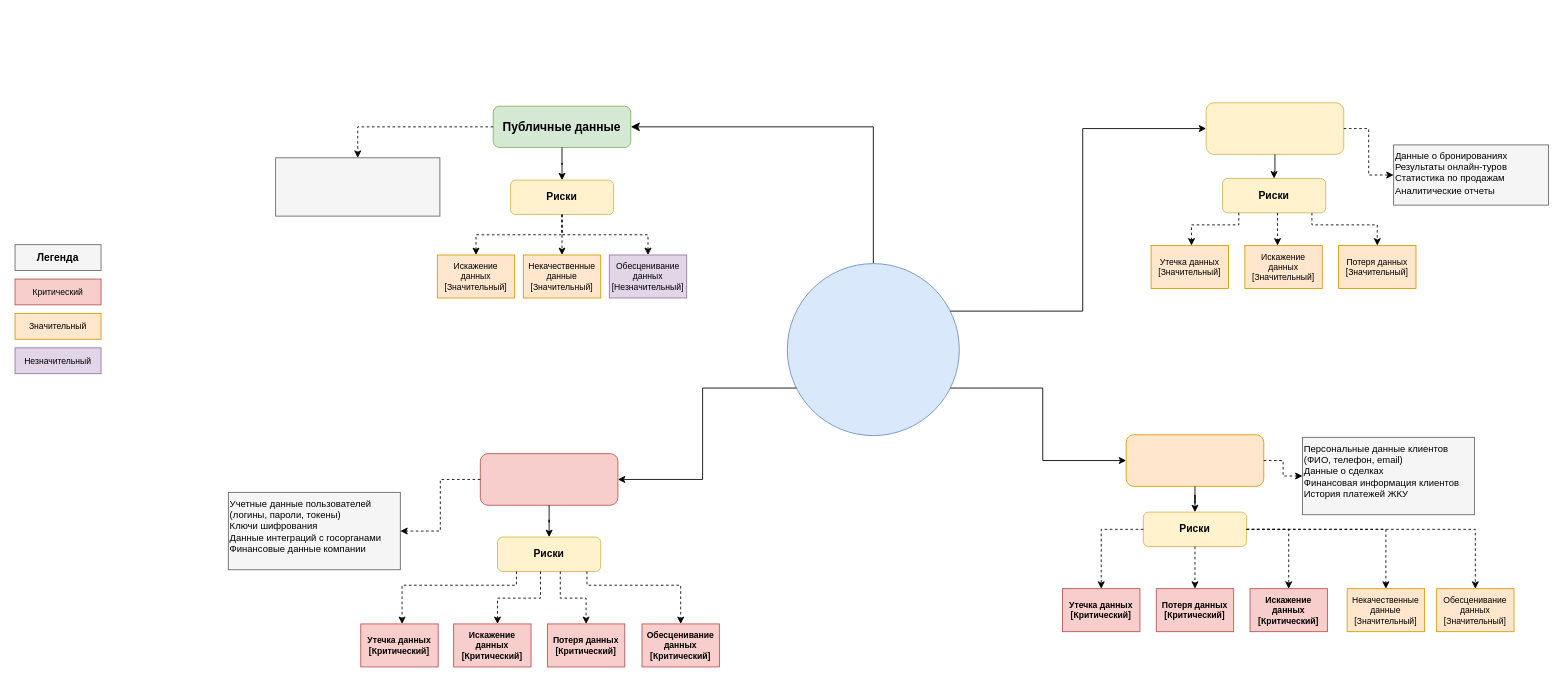
Some shapes in this 1563 by 682 pixel diagram are drawn without their labels. Each missing label, with the centre of its shape:
Безопасность данных PropDevelopment: (872,349)
Внутренние данные: (1274,128)
Каталог объектов недвижимости Цены на квартиры Планировки Информация о ЖК: (357,186)
Конфиденциальные данные: (1194,460)
Секретные данные: (548,479)
